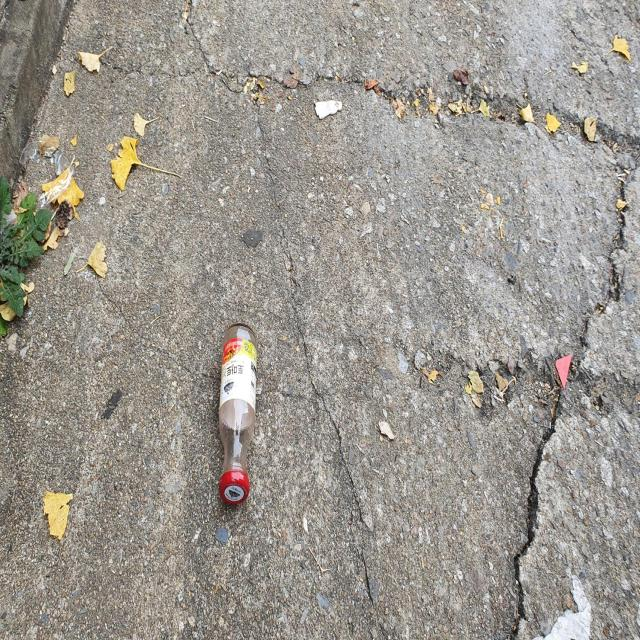glass: (219, 323, 257, 505)
